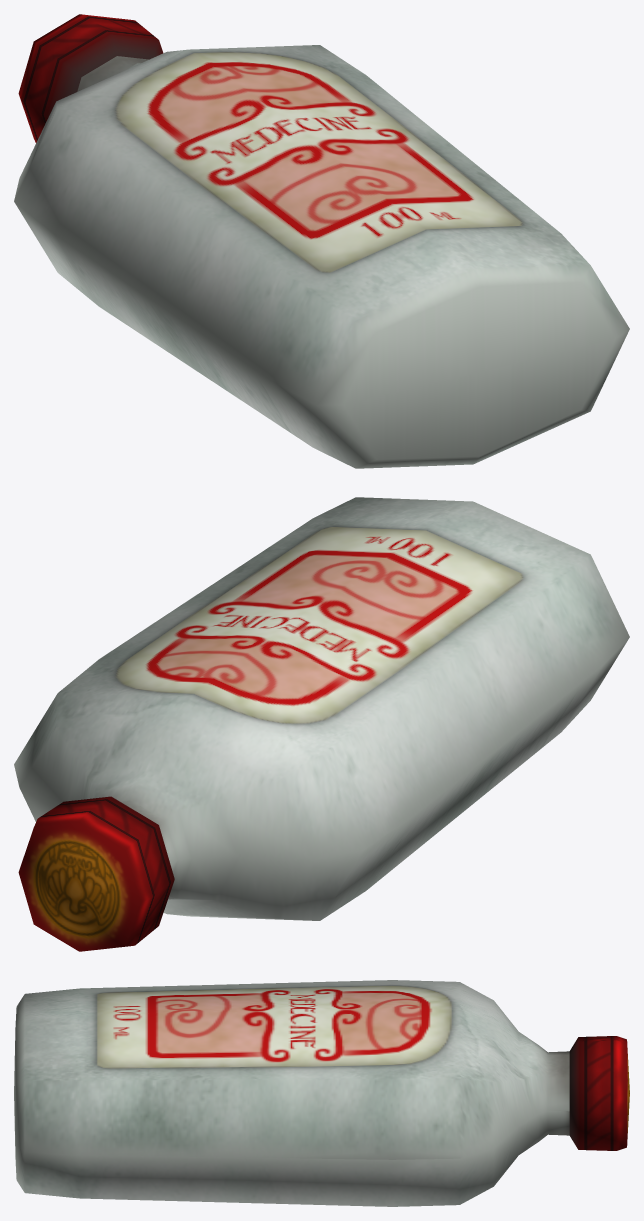
Rendered from Life_Bottle.FBX.
3 views of the same model, one above another, from view 1: azimuth 30°, elevation 25°; view 2: azimuth 150°, elevation 25°; view 3: azimuth 270°, elevation 25° (orthographic). The views are drawn at different scales.
Parts seen in each view (by area): view 1: Life_Bottle, Life_Bottle_Top; view 2: Life_Bottle, Life_Bottle_Top; view 3: Life_Bottle, Life_Bottle_Top.
Part boxes in pixels (bbox=[...]): Life_Bottle: bbox=[14, 45, 629, 468]; Life_Bottle_Top: bbox=[18, 14, 163, 142]; Life_Bottle: bbox=[14, 497, 629, 920]; Life_Bottle_Top: bbox=[18, 796, 174, 951]; Life_Bottle: bbox=[14, 980, 569, 1206]; Life_Bottle_Top: bbox=[569, 1036, 629, 1150].
Size of the model in its own units: 0.376 by 0.2243 by 0.7372.
